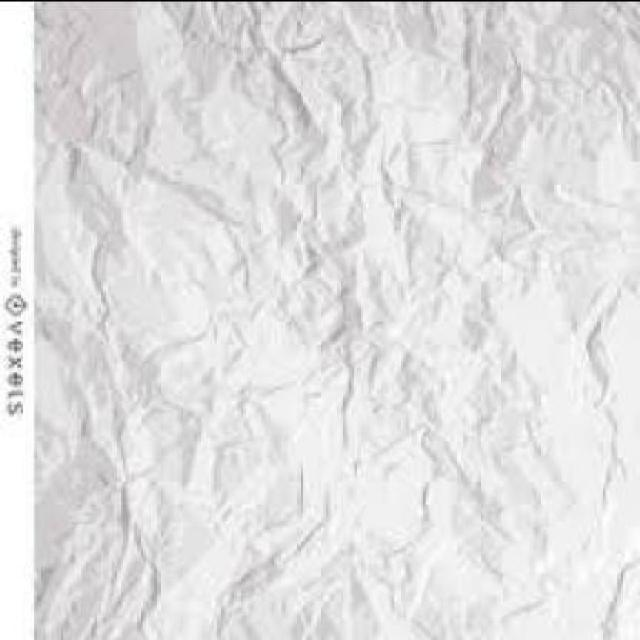paper: (40, 1, 638, 637)
